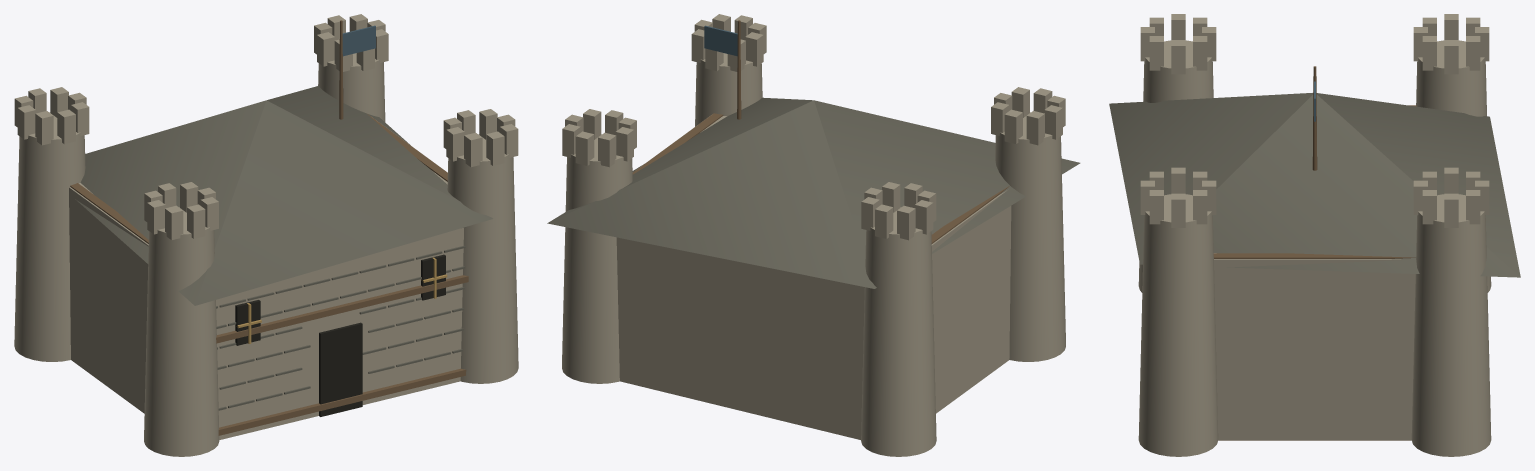
File: b-landmark.glb
3 renders of one model, left to right at view 1: azimuth 30°, elevation 25°; view 2: azimuth 150°, elevation 25°; view 3: azimuth 270°, elevation 25°, orthographic. The views are drawn at different scales.
Parts seen in each view (by area): view 1: Structure; view 2: Structure; view 3: Structure.
Part boxes in pixels (x1=…): Structure: x1=14, y1=14, x2=518, y2=456; Structure: x1=547, y1=14, x2=1080, y2=456; Structure: x1=1109, y1=14, x2=1520, y2=456.
Size of the model in its own units: 7.8 by 6.52 by 7.24.
